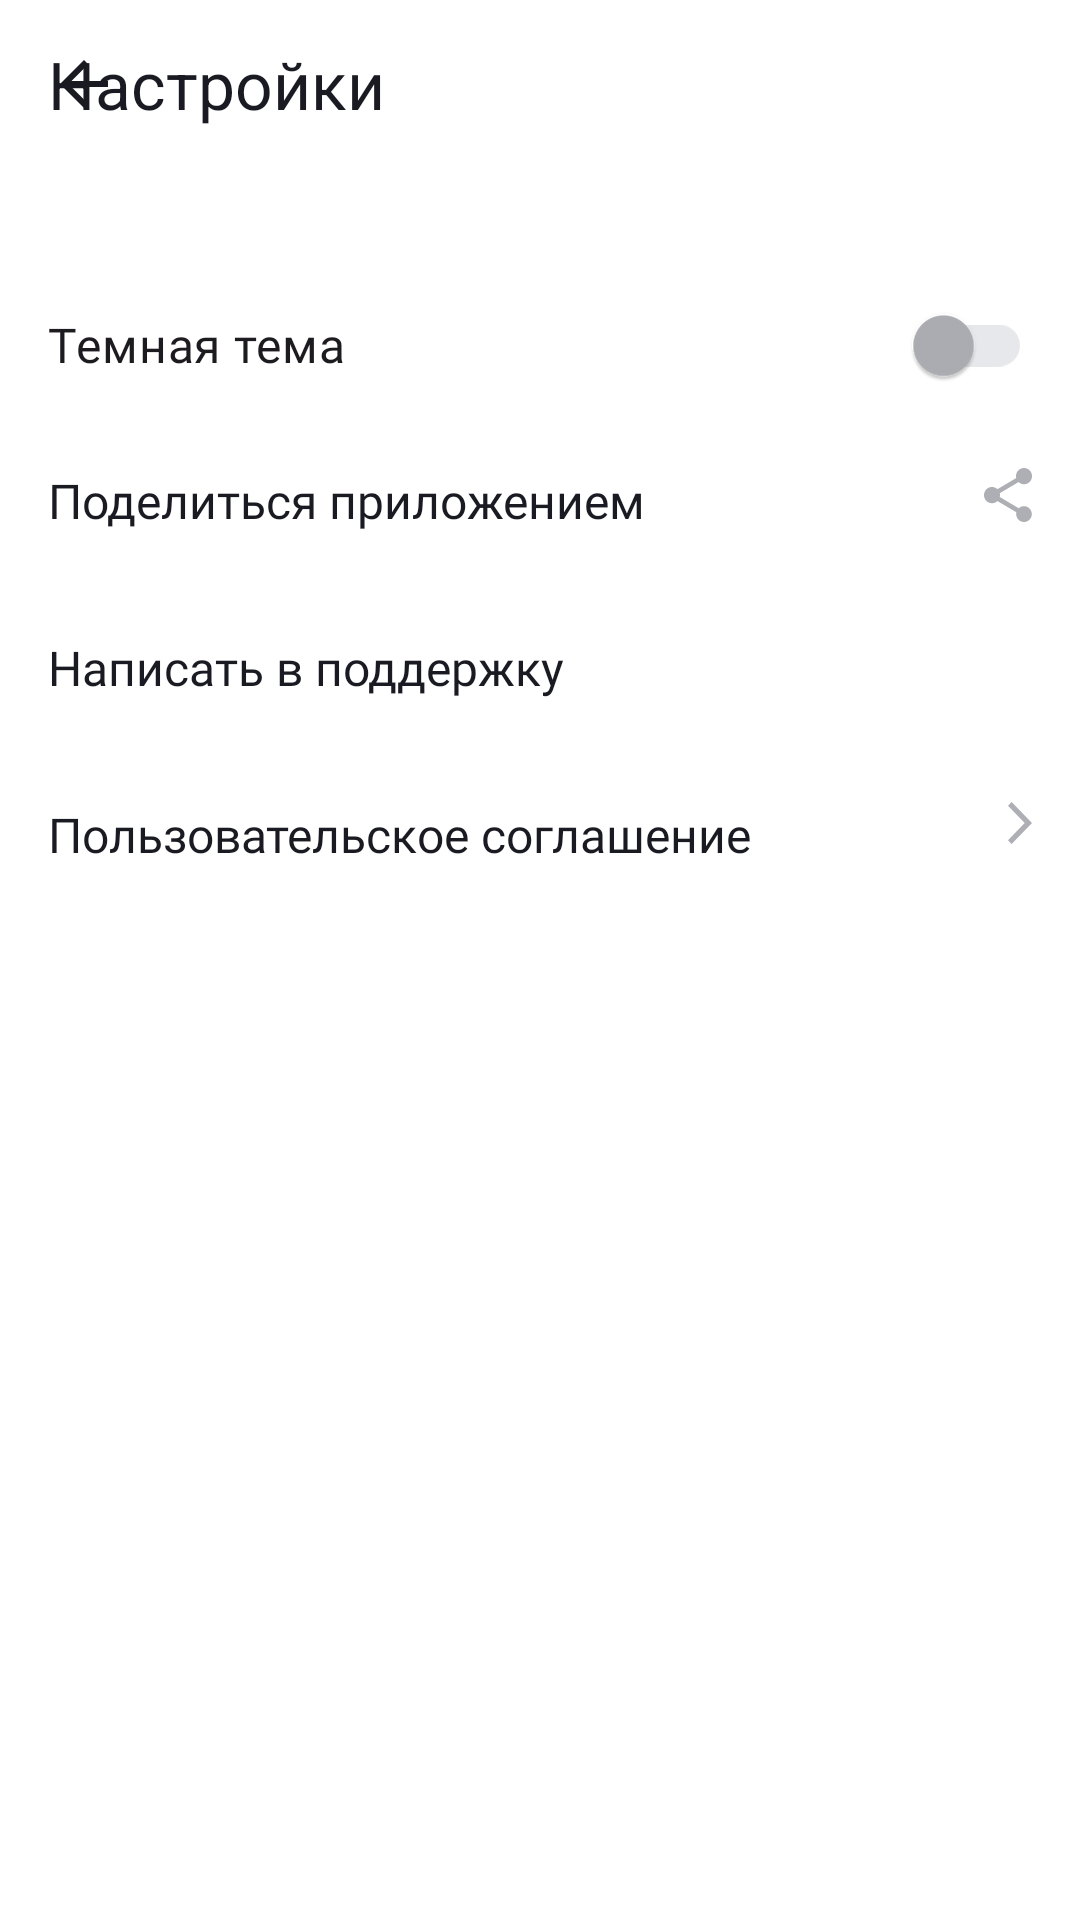

Icons on this 1080 x 1920 Android screen, each with its box as (x1, y1, x2, y2):
arrow forward: (1008, 802, 1032, 844)
share: (984, 468, 1032, 522)
